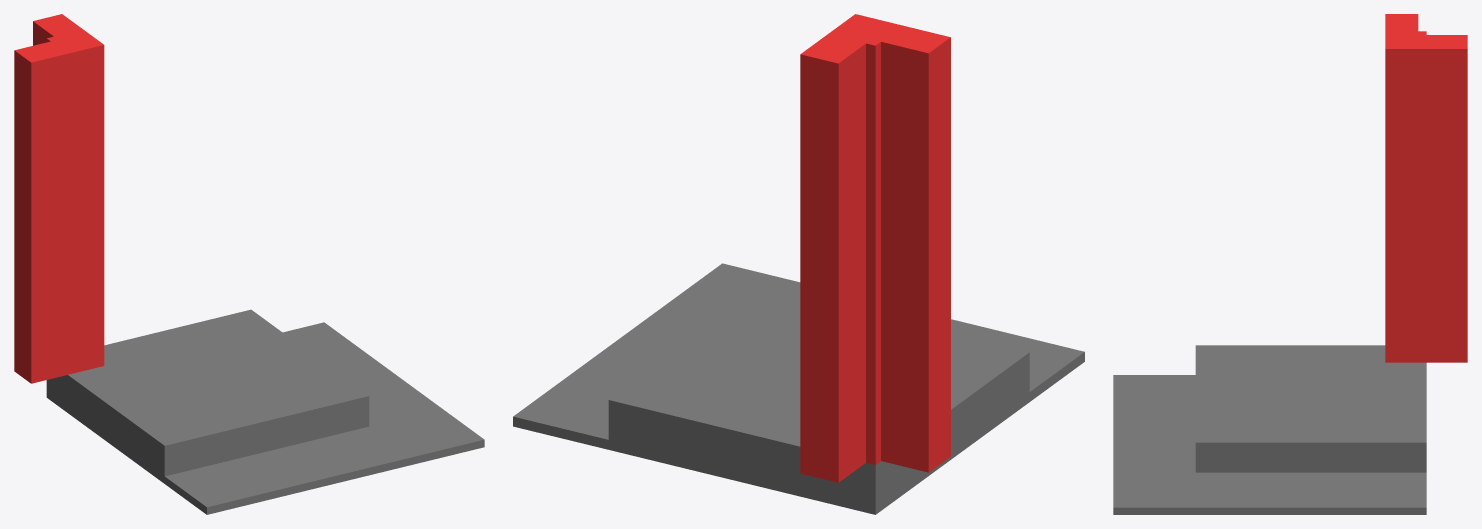
Rendered from Base_Sidewalk_Corner_Pillar.fbx.
The picture shows the model from 3 angles, left to right: view 1: azimuth 30°, elevation 25°; view 2: azimuth 150°, elevation 25°; view 3: azimuth 270°, elevation 25°; orthographic projection. The views are drawn at different scales.
Parts seen in each view (by area): view 1: Box001; view 2: Box001; view 3: Box001.
Boxes of the visible parts, left/top/right/bottom form: Box001: left=14, top=14, right=484, bottom=514; Box001: left=513, top=14, right=1084, bottom=514; Box001: left=1113, top=14, right=1467, bottom=514.
Size of the model in its own units: 215 by 235 by 215.
